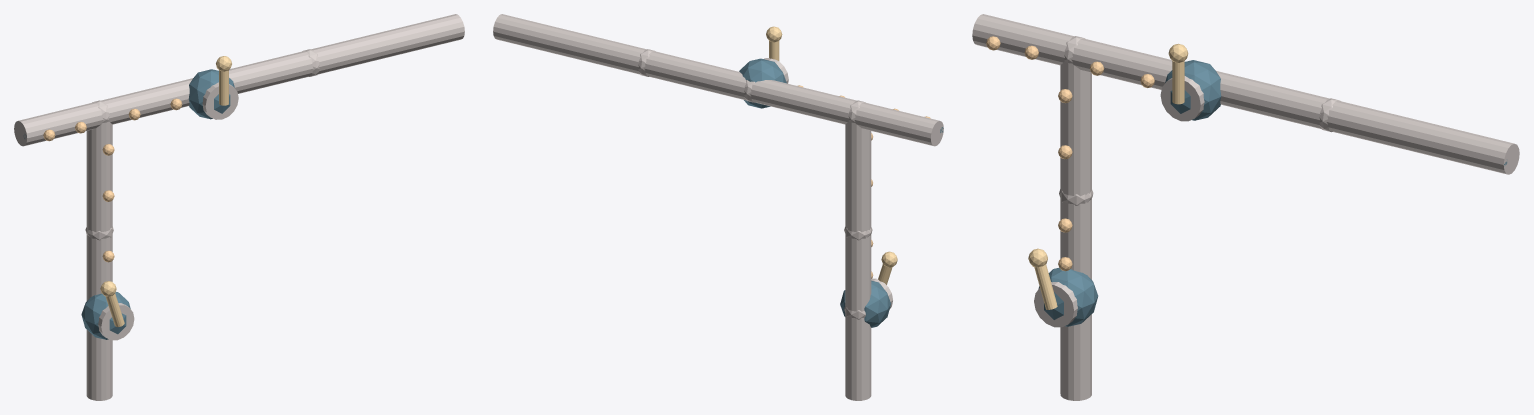
File: plant-00-1.glb
The picture shows the model from 3 angles, left to right: view 1: azimuth 30°, elevation 25°; view 2: azimuth 150°, elevation 25°; view 3: azimuth 330°, elevation 25°; orthographic projection. The views are drawn at different scales.
Visible parts, largest first — view 1: pipe, dark, handle, flow; view 2: pipe, dark, handle; view 3: pipe, dark, handle, flow.
Boxes of the visible parts, box(x1,y1,x2,y2) form: pipe: box(14, 14, 464, 400); dark: box(23, 69, 234, 339); handle: box(100, 56, 231, 327); flow: box(43, 98, 182, 262); pipe: box(493, 14, 943, 400); dark: box(739, 58, 943, 327); handle: box(766, 26, 897, 284); pipe: box(972, 14, 1519, 400); dark: box(1038, 60, 1507, 326); handle: box(1028, 43, 1188, 309); flow: box(986, 36, 1154, 271).
Bounding box in the file's own units: 2.77 × 1.99 × 0.343.
